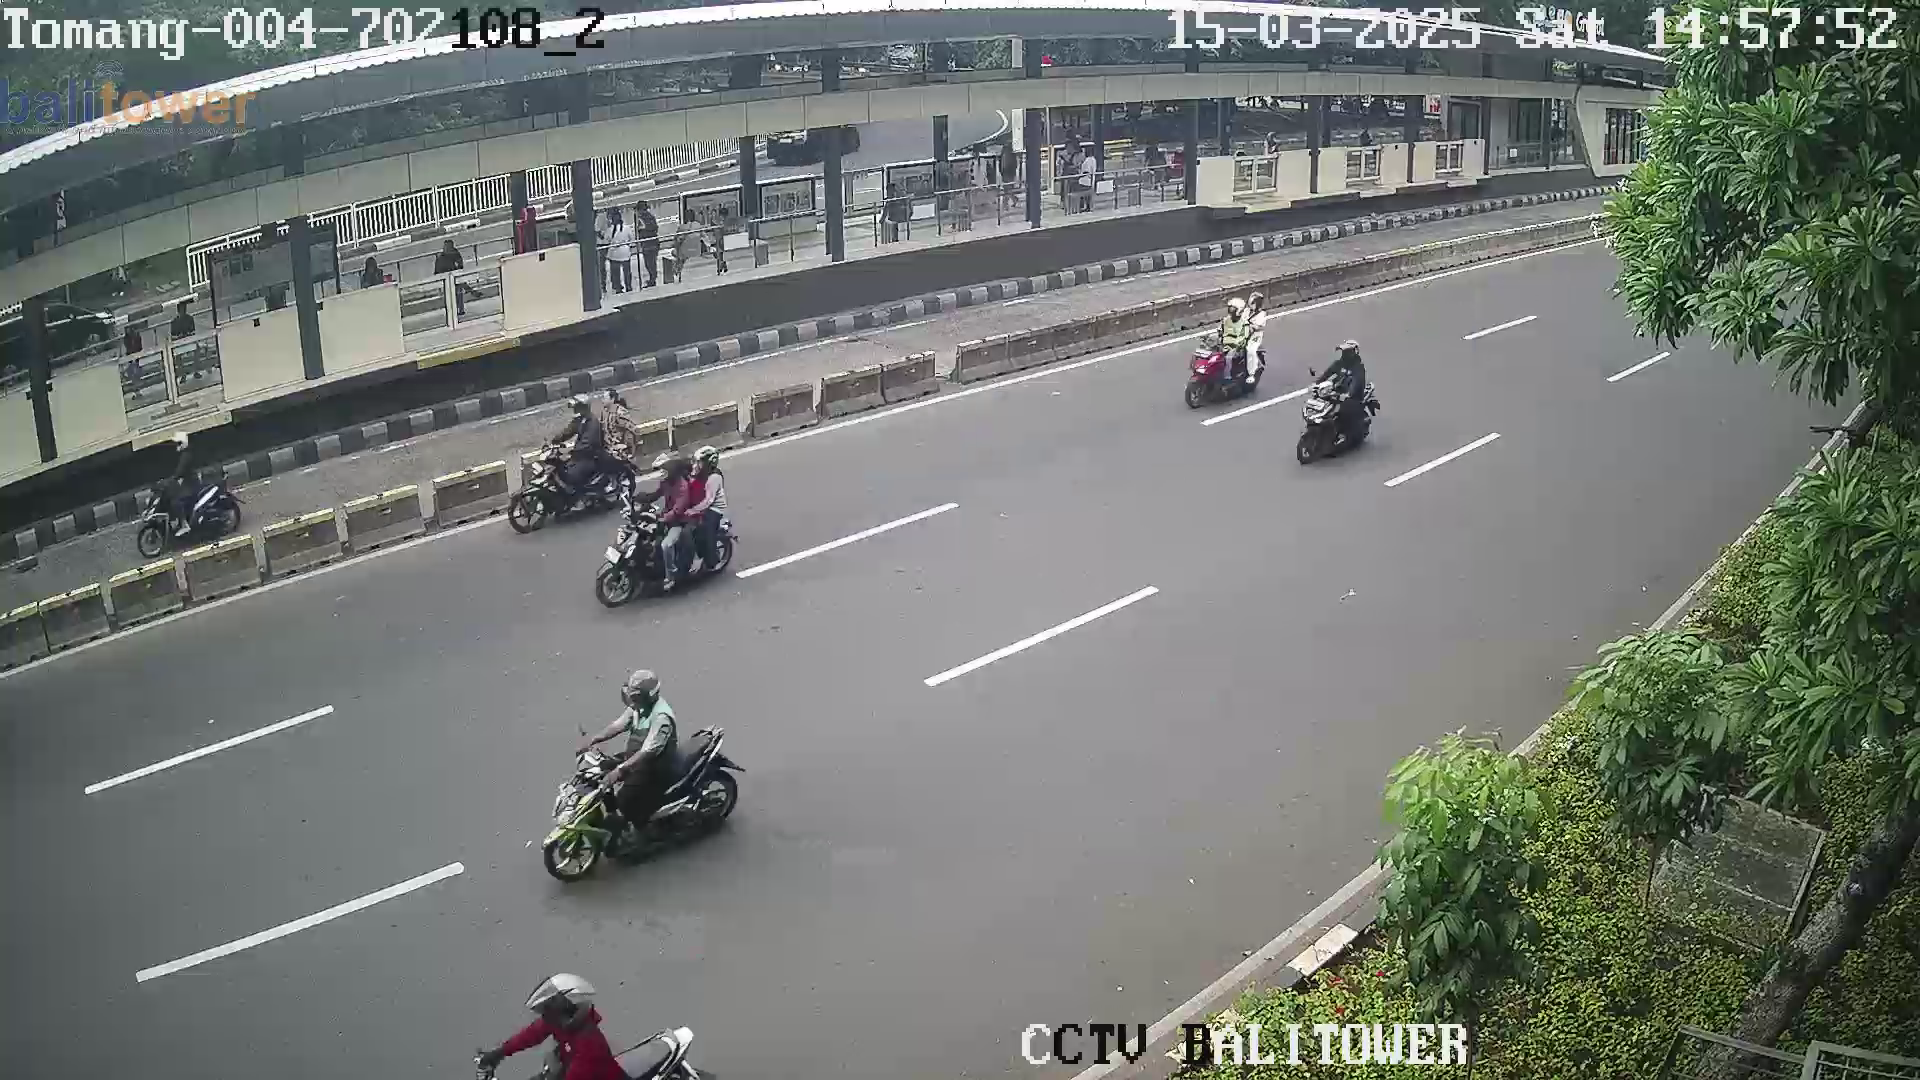half-face helmet: (521, 971, 608, 1035), (682, 433, 737, 473), (614, 669, 663, 714), (649, 445, 690, 488), (565, 386, 588, 426), (1333, 339, 1366, 367), (168, 429, 196, 459), (1221, 294, 1249, 324)
no helmet: (600, 386, 621, 418)
